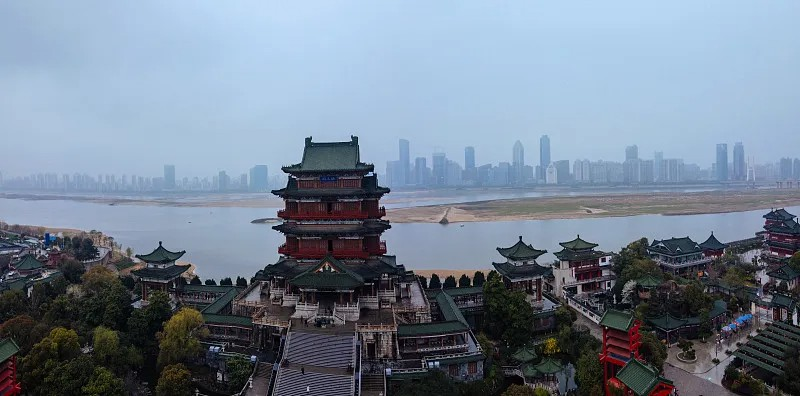Teng: (255, 136, 414, 299)
